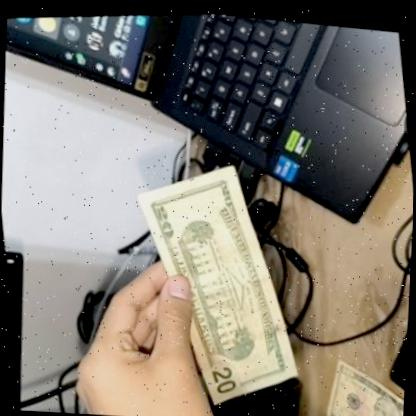ten-front: (315, 340, 407, 416)
twenty-back: (115, 149, 312, 416)
